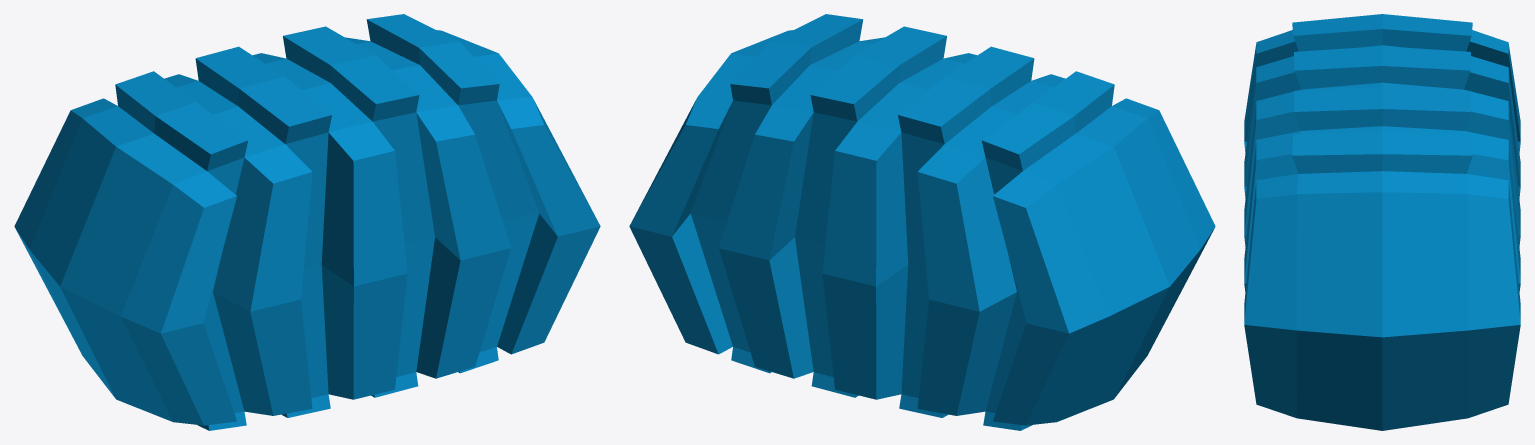
The model's file is debris2.fbx.
The picture shows the model from 3 angles, left to right: view 1: azimuth 30°, elevation 25°; view 2: azimuth 150°, elevation 25°; view 3: azimuth 270°, elevation 25°; orthographic projection. The views are drawn at different scales.
Visible parts, largest first — view 1: engine; view 2: engine; view 3: engine.
Part boxes in pixels (<box>): engine: <box>14,14,600,430</box>; engine: <box>629,14,1215,430</box>; engine: <box>1244,14,1520,430</box>.
Bounding box in the file's own units: 193 × 113 × 98.71.
